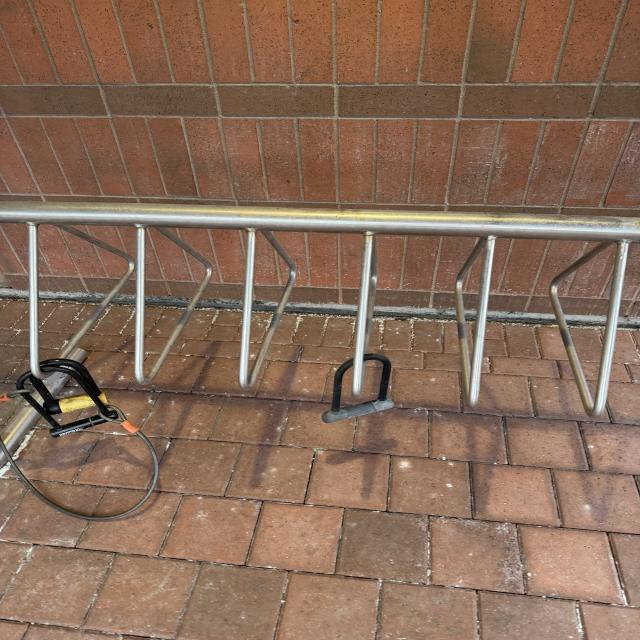Bicycle Rack: (0, 200, 640, 440)
